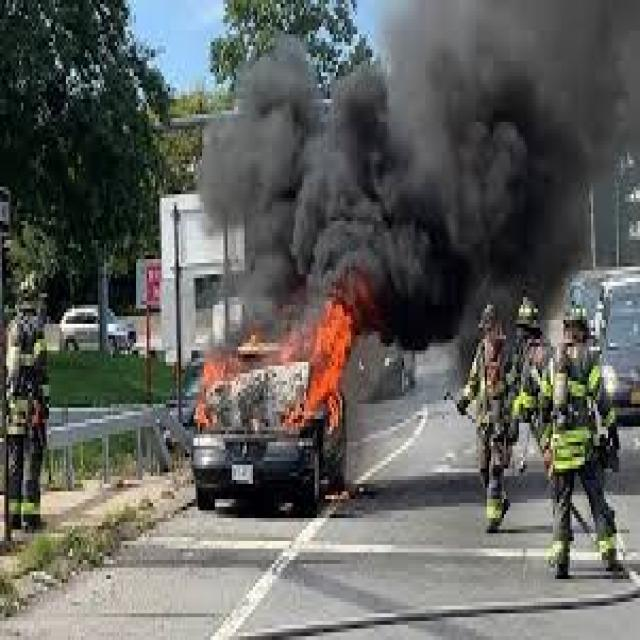fire: (283, 305, 359, 423)
smoke: (372, 3, 640, 266), (187, 30, 372, 305), (361, 38, 472, 351)
